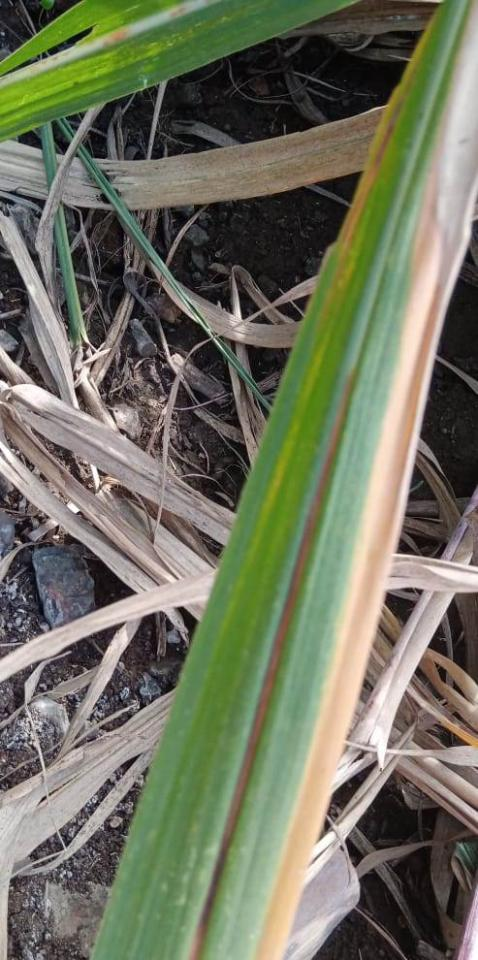RedRot: (188, 364, 360, 959)
